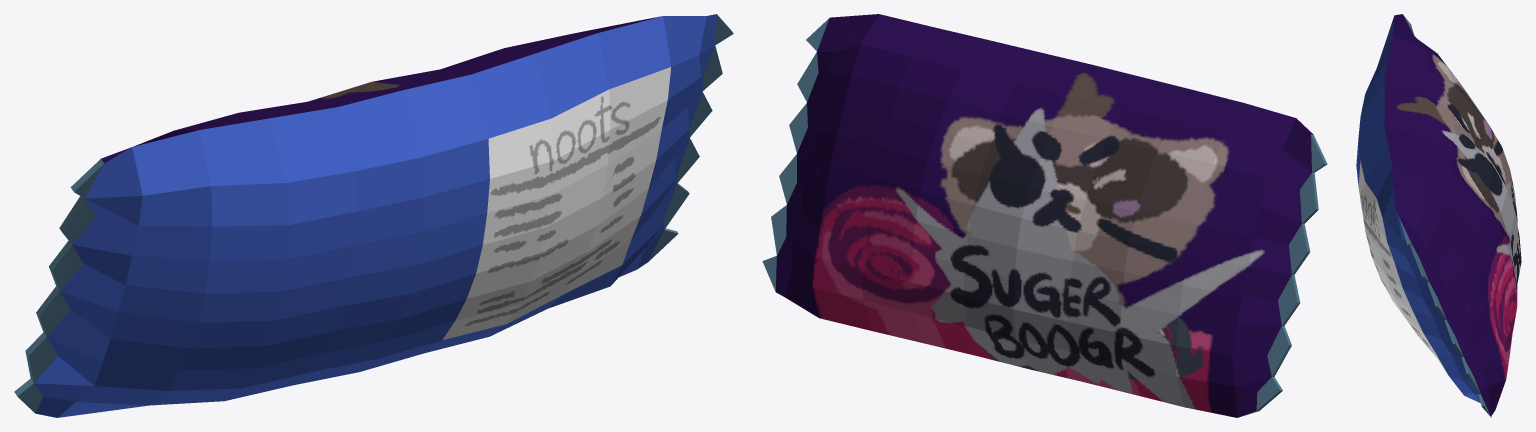
File: BootlegSnack.SugerBoogr.fbx
3 renders of one model, left to right at view 1: azimuth 30°, elevation 25°; view 2: azimuth 150°, elevation 25°; view 3: azimuth 270°, elevation 25°, orthographic. The views are drawn at different scales.
Visible parts, largest first — view 1: BootlegSnack.SugerBoogr; view 2: BootlegSnack.SugerBoogr; view 3: BootlegSnack.SugerBoogr.
Boxes of the visible parts, left/top/right/bottom form: BootlegSnack.SugerBoogr: left=14, top=14, right=733, bottom=417; BootlegSnack.SugerBoogr: left=762, top=14, right=1327, bottom=417; BootlegSnack.SugerBoogr: left=1356, top=14, right=1521, bottom=417.
Size of the model in its own units: 79.42 by 38.18 by 25.6.
